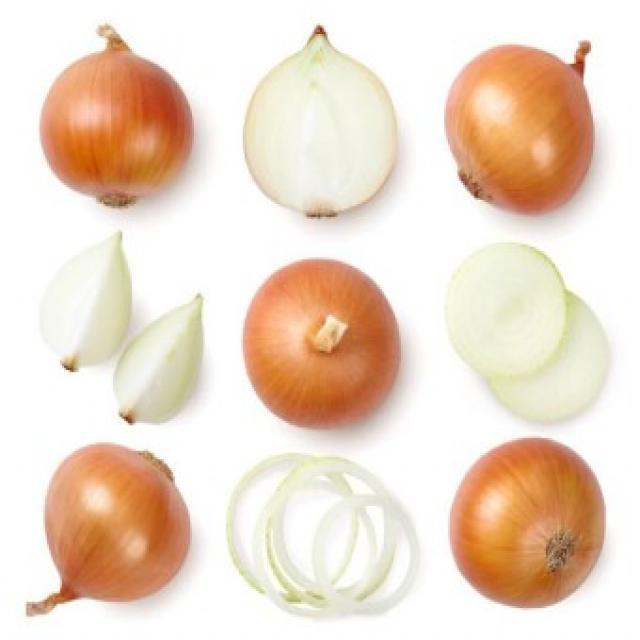onion: (226, 432, 418, 640), (32, 230, 220, 436), (28, 442, 216, 629), (447, 430, 614, 632), (434, 19, 598, 224), (236, 19, 394, 224), (34, 21, 196, 212), (250, 244, 408, 429), (438, 244, 604, 414)
